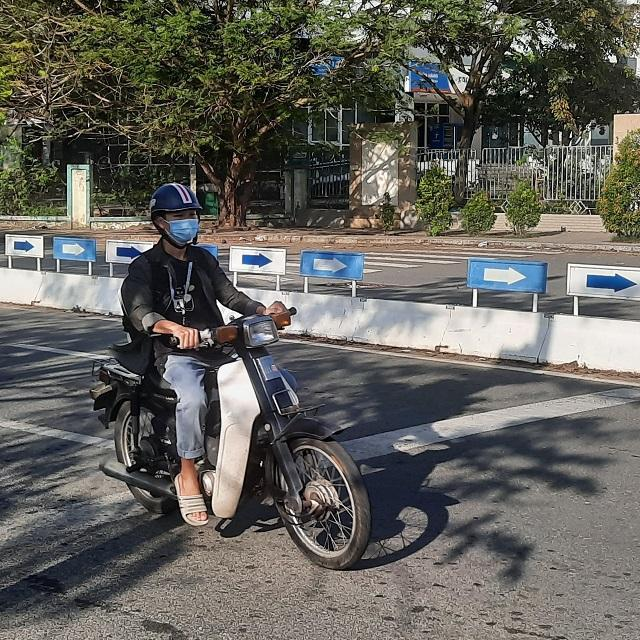Helmet: (146, 181, 206, 251)
